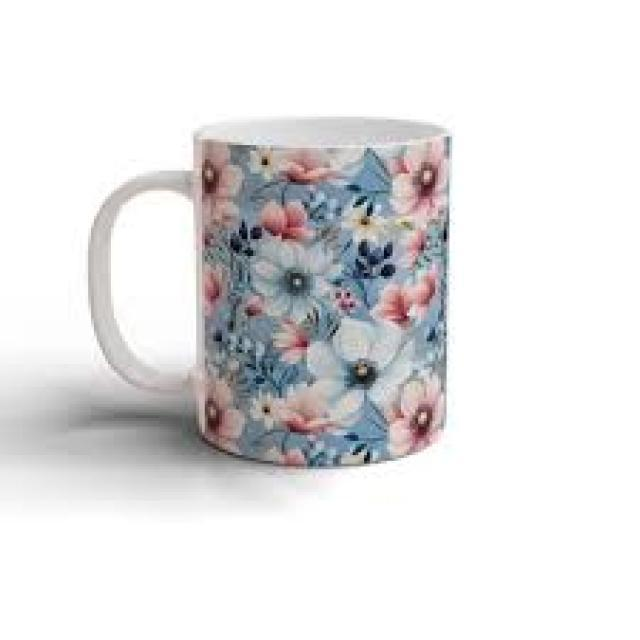taza: (87, 114, 453, 478)
